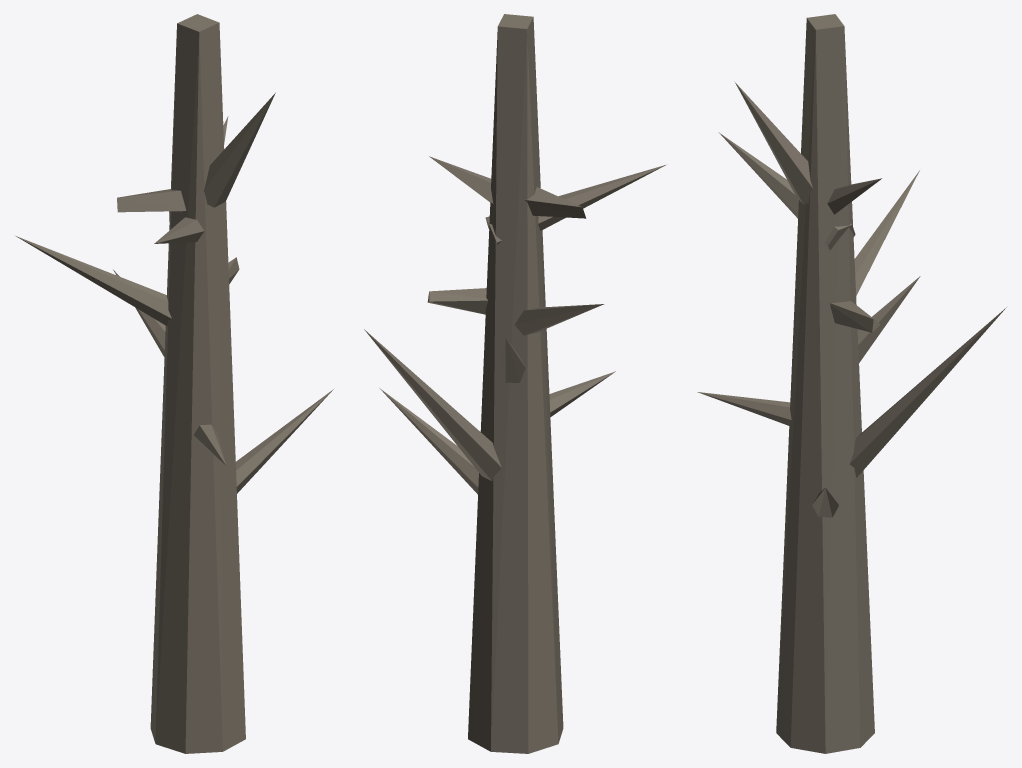
The model's file is dead_tree_LOD1.fbx.
The picture shows the model from 3 angles, left to right: view 1: azimuth 30°, elevation 25°; view 2: azimuth 150°, elevation 25°; view 3: azimuth 270°, elevation 25°; orthographic projection.
Parts seen in each view (by area): view 1: dead_tree_LOD1; view 2: dead_tree_LOD1; view 3: dead_tree_LOD1.
Boxes of the visible parts, x1,y1,x2,y2 form: dead_tree_LOD1: (16,14,333,753); dead_tree_LOD1: (364,14,666,753); dead_tree_LOD1: (697,14,1006,753).
Size of the model in its own units: 261 by 650 by 258.
